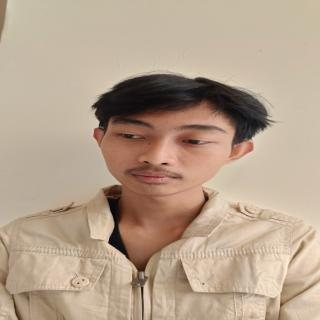Sedih: (100, 97, 237, 198)
